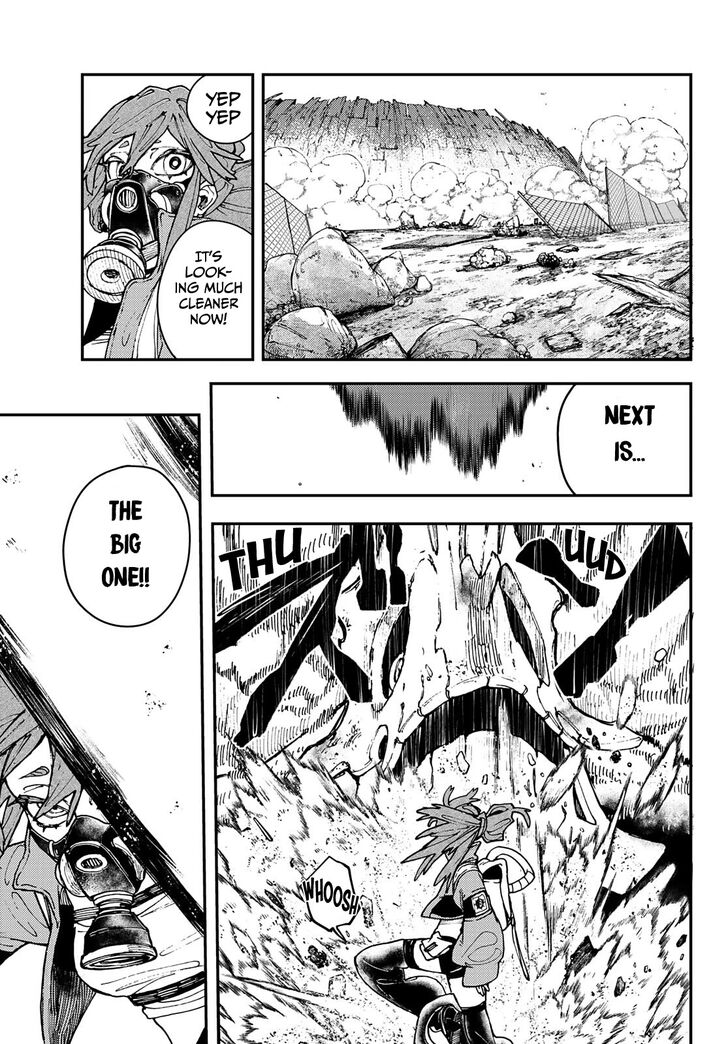bubble: (64, 465, 191, 627), (558, 383, 692, 496), (157, 221, 253, 360), (186, 74, 254, 144)
